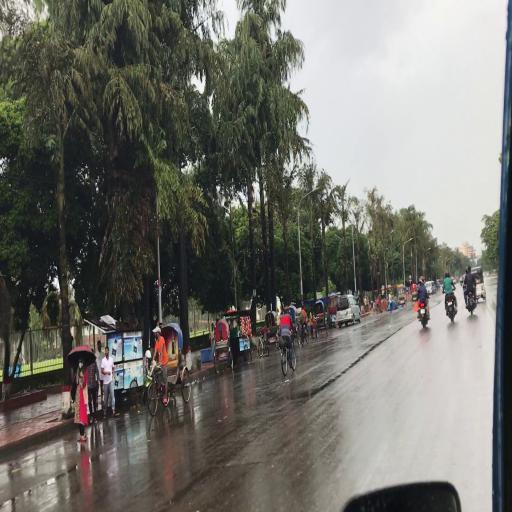bicycle: (281, 335, 297, 376), (300, 324, 311, 348)
minivan: (337, 296, 362, 328), (427, 281, 438, 294)
motorbike: (442, 271, 459, 326), (463, 268, 477, 318), (417, 277, 429, 331)
rickshaw: (147, 324, 193, 417), (214, 319, 235, 373), (313, 300, 330, 339), (265, 310, 280, 350), (398, 285, 408, 309), (411, 283, 417, 306)
three wheelers CNG: (477, 267, 488, 304)
